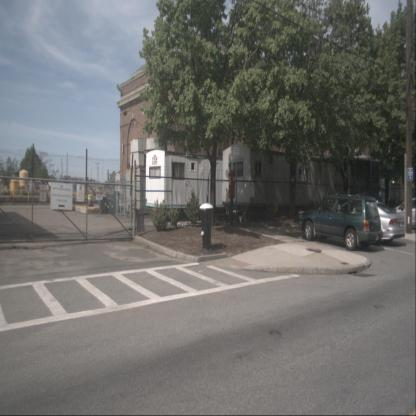vehicle-car: (298, 193, 383, 250), (328, 200, 405, 246), (389, 196, 415, 231)
